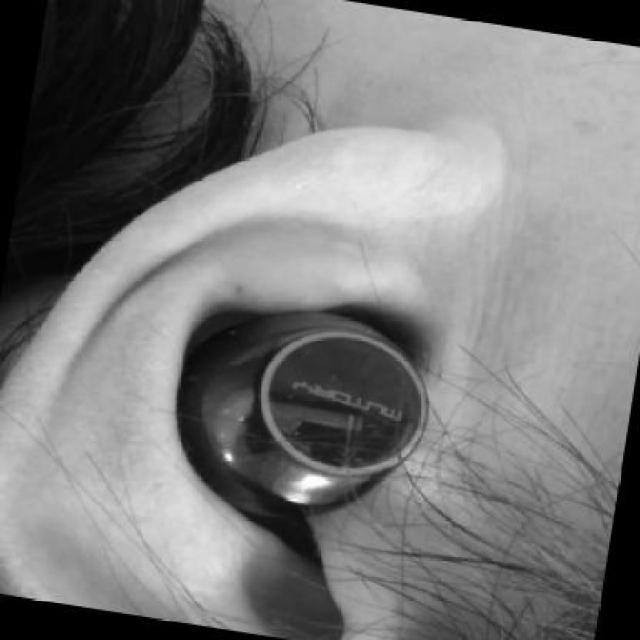earphone: (180, 253, 466, 594)
